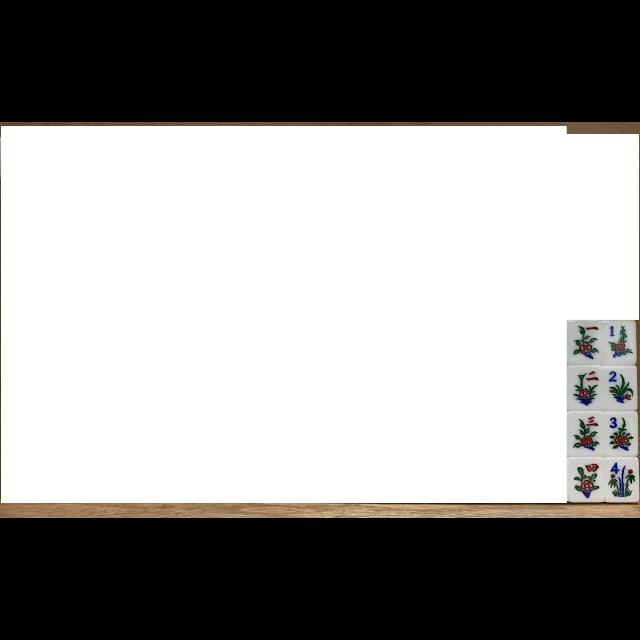f1-s: (602, 322, 636, 364)
f2-s: (604, 366, 636, 409)
f3-s: (604, 412, 638, 456)
f4-s: (606, 458, 638, 502)
s1-s: (568, 321, 600, 364)
s2-s: (568, 367, 602, 411)
s3-s: (568, 412, 602, 456)
s4-s: (569, 458, 603, 502)
